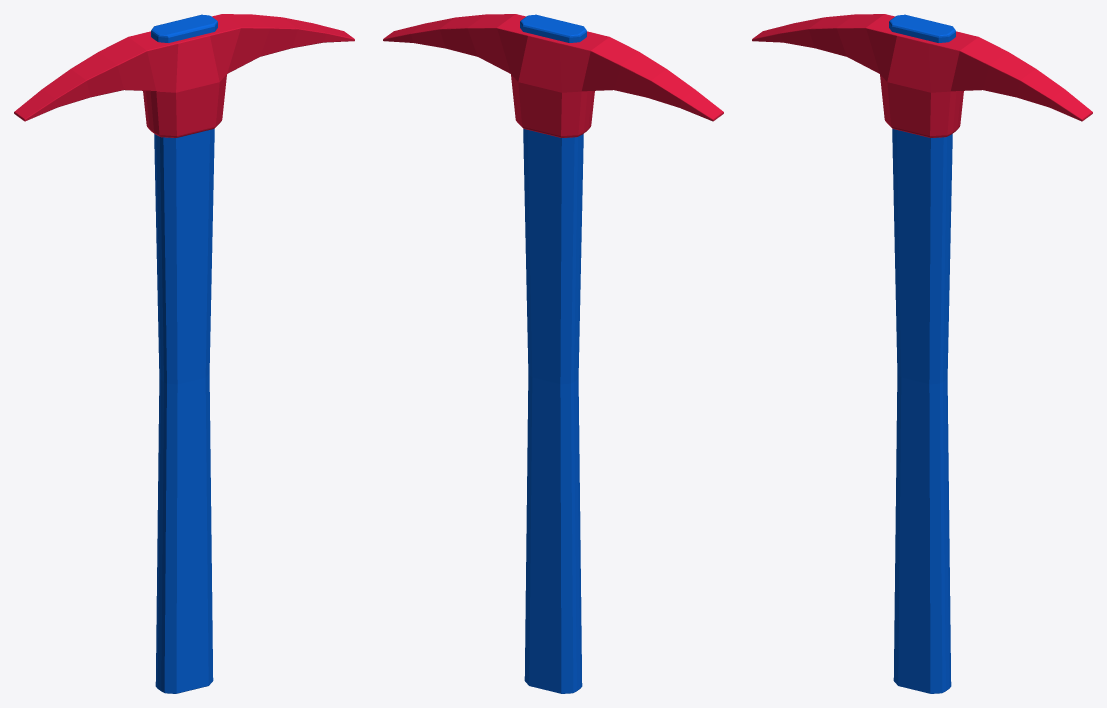
Rendered from lowpoly Pickaxe.fbx.
3 views of the same model, side by side, from view 1: azimuth 30°, elevation 25°; view 2: azimuth 150°, elevation 25°; view 3: azimuth 330°, elevation 25° (orthographic).
Parts seen in each view (by area): view 1: Pickaxe LowPoly; view 2: Pickaxe LowPoly; view 3: Pickaxe LowPoly.
Boxes of the visible parts, box(x1,y1,x2,y2) form: Pickaxe LowPoly: box(14, 14, 354, 693); Pickaxe LowPoly: box(383, 14, 723, 693); Pickaxe LowPoly: box(752, 14, 1092, 693).
Size of the model in its own units: 60.1 by 115 by 8.42.
